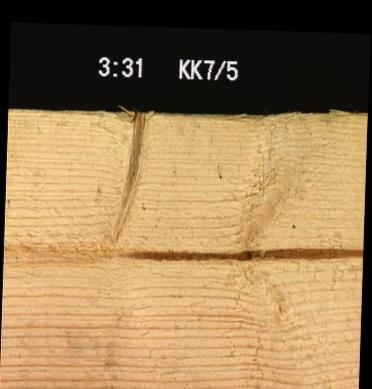small_knot: (284, 214, 304, 232)
